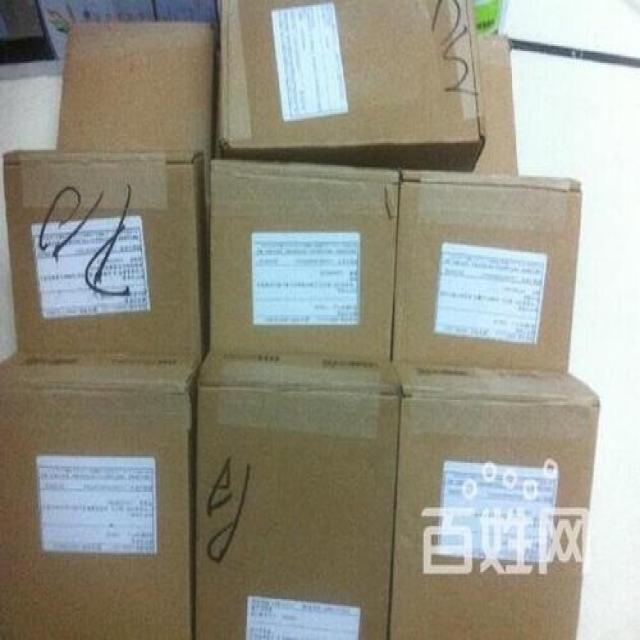box: (193, 354, 402, 638), (389, 363, 600, 640), (0, 354, 201, 640), (218, 0, 486, 170), (1, 150, 209, 361), (390, 167, 584, 373), (209, 158, 399, 361), (56, 26, 215, 151), (475, 34, 520, 172)
